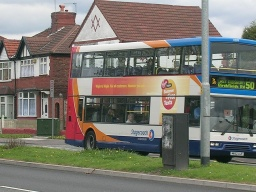bus: (64, 37, 256, 159)
